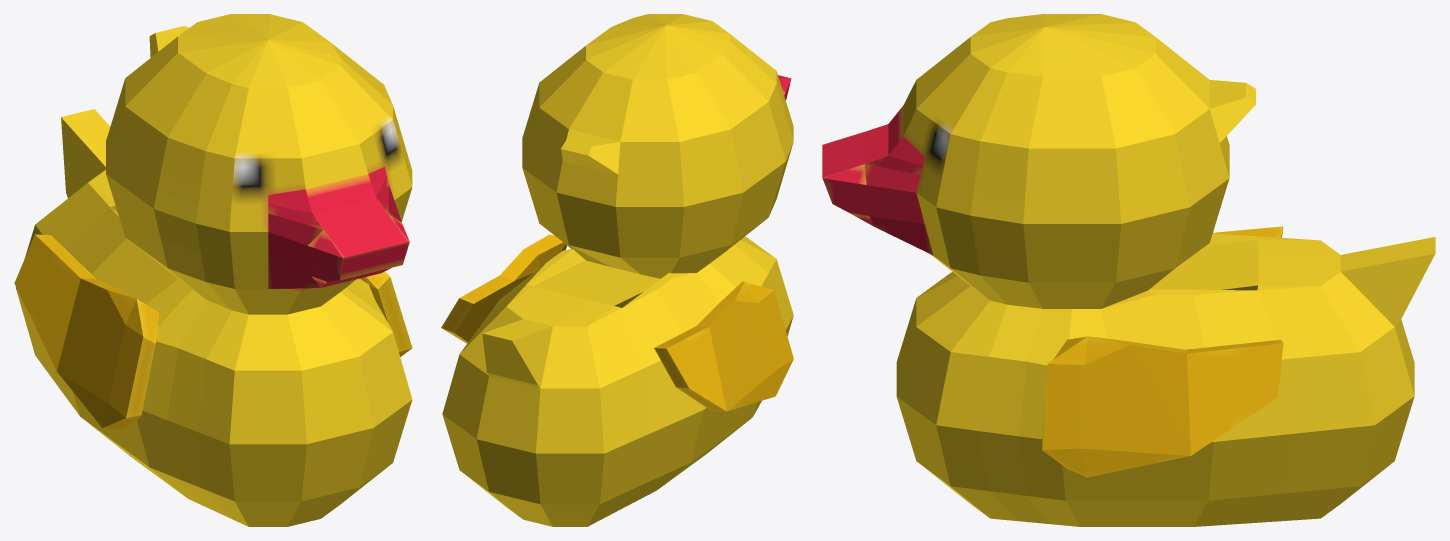
Rendered from Duck 1.fbx.
3 views of the same model, side by side, from view 1: azimuth 30°, elevation 25°; view 2: azimuth 150°, elevation 25°; view 3: azimuth 270°, elevation 25° (orthographic). The views are drawn at different scales.
Parts seen in each view (by area): view 1: sphere; view 2: sphere; view 3: sphere.
Boxes of the visible parts, box(x1,y1,x2,y2) form: sphere: box(14, 14, 412, 526); sphere: box(441, 14, 793, 526); sphere: box(822, 14, 1435, 526).
Size of the model in its own units: 116 by 175 by 207.
1 material, 1 textured.
